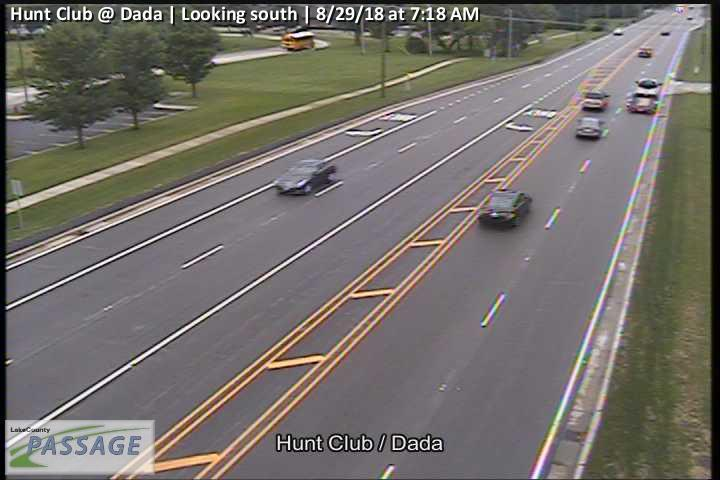Sedan: (272, 158, 336, 195), (478, 187, 533, 227), (575, 116, 606, 139)
